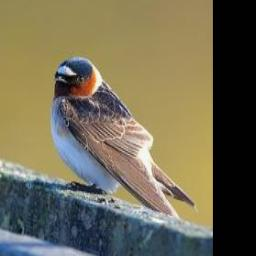Swallow: (49, 56, 198, 224)
